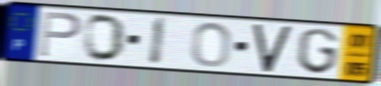G: (296, 27, 340, 76)
I: (147, 15, 169, 68)
O: (83, 13, 127, 63), (190, 21, 234, 69)
P: (37, 10, 83, 59)
V: (251, 24, 294, 74)
